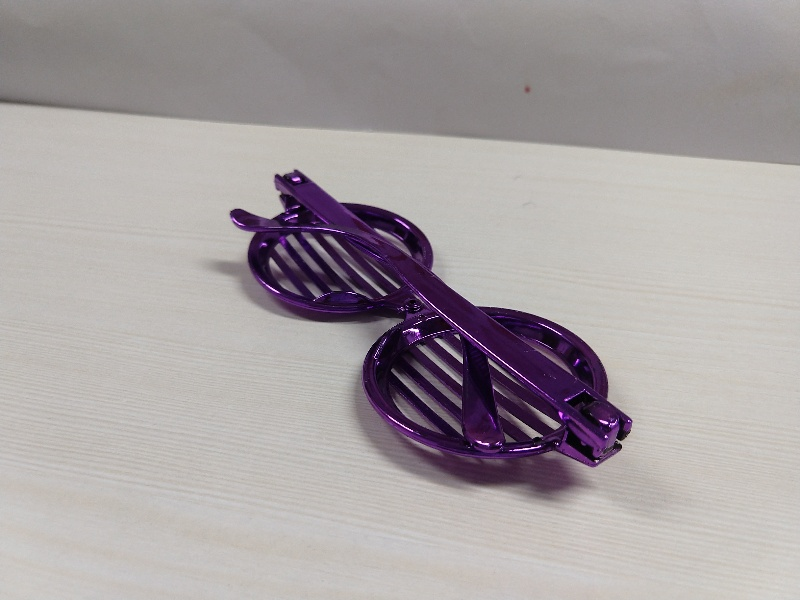shades: (224, 163, 640, 468)
